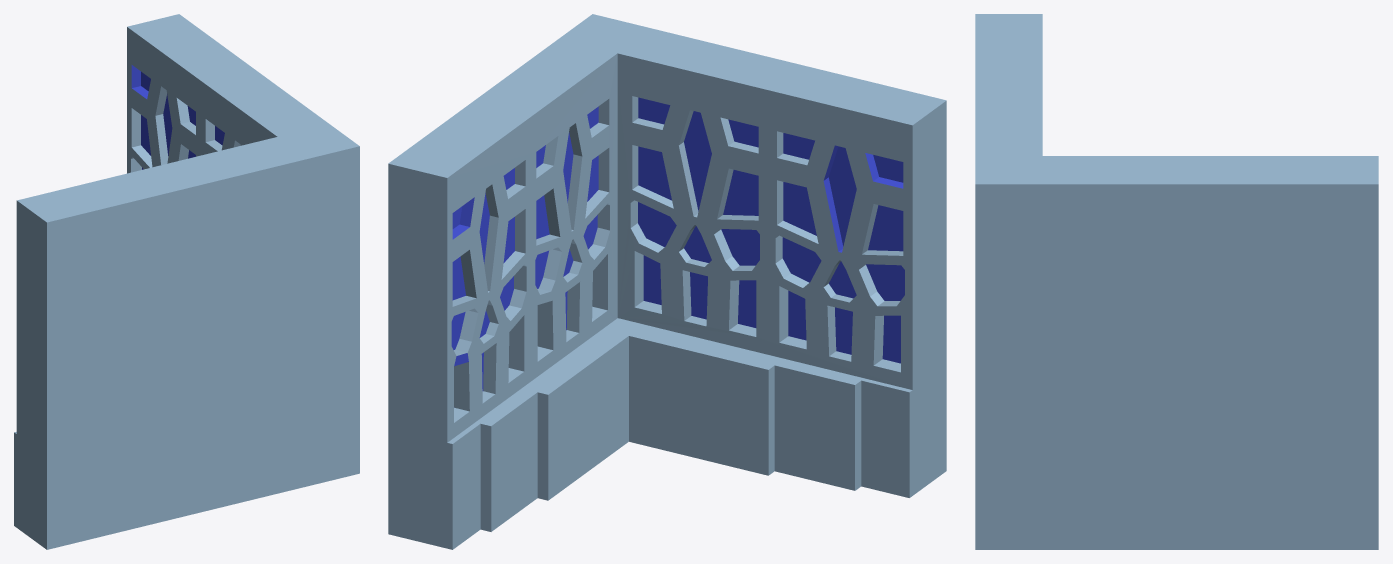
File: EspacioRedSocialEsquinaCierreInteriorAltoNI.gltf
3 renders of one model, left to right at view 1: azimuth 30°, elevation 25°; view 2: azimuth 150°, elevation 25°; view 3: azimuth 270°, elevation 25°, orthographic. The views are drawn at different scales.
Visible parts, largest first — view 1: Cubo.33; view 2: Cubo.33; view 3: Cubo.33.
Part boxes in pixels (left/top/right/bottom): Cubo.33: left=14, top=14, right=359, bottom=549; Cubo.33: left=388, top=14, right=946, bottom=549; Cubo.33: left=975, top=14, right=1378, bottom=549.
Size of the model in its own units: 2 by 2 by 2.
Materials: 1 (1 with a texture image).
